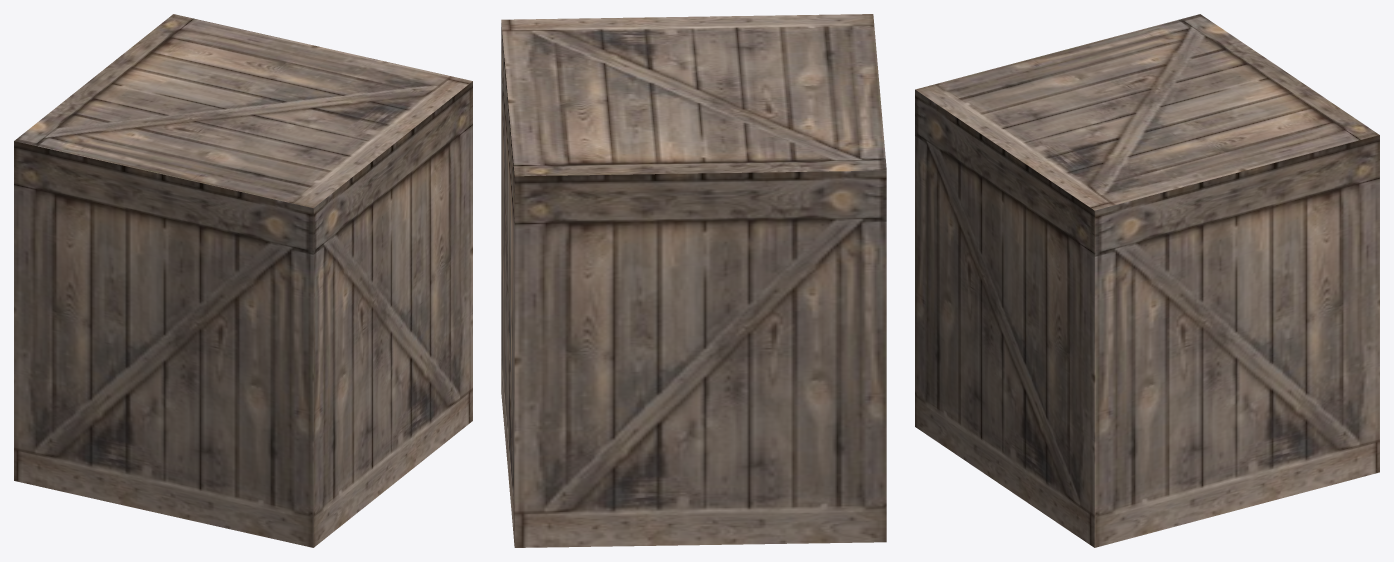
3 renders of one model, left to right at view 1: azimuth 30°, elevation 25°; view 2: azimuth 150°, elevation 25°; view 3: azimuth 270°, elevation 25°, orthographic. The views are drawn at different scales.
Parts seen in each view (by area): view 1: C004_Boxs_08_0; view 2: C004_Boxs_08_0; view 3: C004_Boxs_08_0.
Part boxes in pixels (x1,y1,x2,y2): C004_Boxs_08_0: [14, 14, 472, 547]; C004_Boxs_08_0: [501, 14, 886, 547]; C004_Boxs_08_0: [915, 14, 1379, 547].
Bounding box in the file's own units: 1.62 × 1.3 × 1.62.
Materials: 1 (1 with a texture image).
